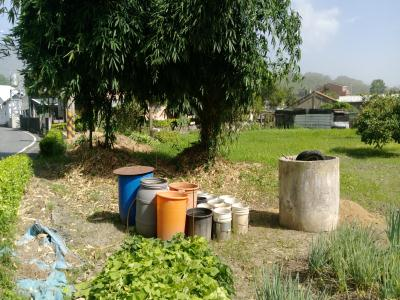bucket: (115, 170, 155, 228), (132, 176, 170, 237), (153, 190, 189, 242), (167, 180, 198, 216), (185, 207, 213, 243), (214, 206, 232, 241), (232, 202, 250, 237), (218, 193, 240, 209)
water_tower: (8, 69, 20, 89)
